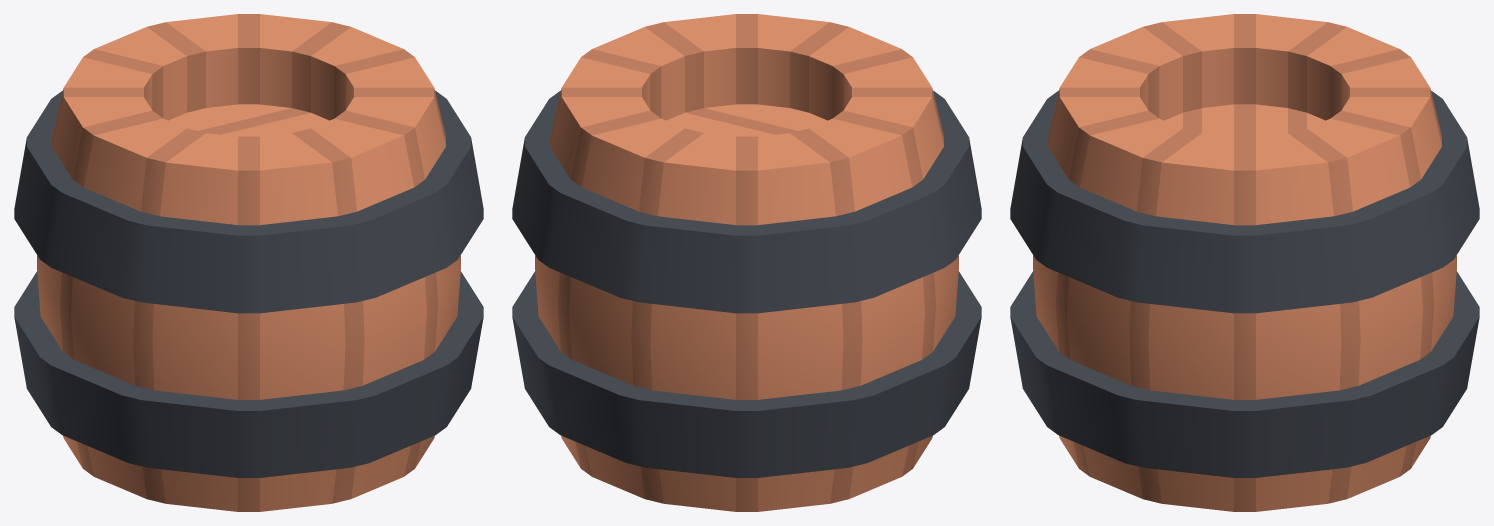
File: Barrel_A.fbx
3 views of the same model, side by side, from view 1: azimuth 30°, elevation 25°; view 2: azimuth 150°, elevation 25°; view 3: azimuth 270°, elevation 25° (orthographic).
Visible parts, largest first — view 1: Barrel_A; view 2: Barrel_A; view 3: Barrel_A.
Part boxes in pixels (x1=…): Barrel_A: x1=14, y1=14, x2=483, y2=511; Barrel_A: x1=512, y1=14, x2=981, y2=511; Barrel_A: x1=1010, y1=14, x2=1479, y2=511.
Bounding box in the file's own units: 180 × 144 × 180.
